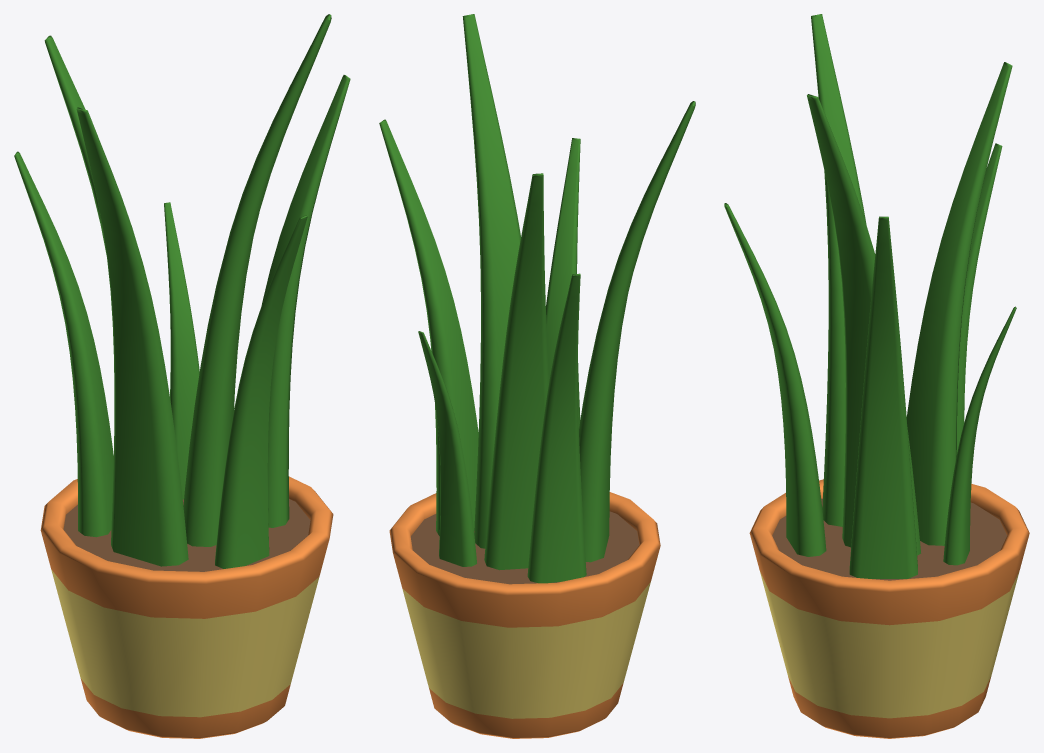
File: Plant_34.glb
3 views of the same model, side by side, from view 1: azimuth 30°, elevation 25°; view 2: azimuth 150°, elevation 25°; view 3: azimuth 270°, elevation 25° (orthographic). The views are drawn at different scales.
Visible parts, largest first — view 1: Plant_34; view 2: Plant_34; view 3: Plant_34.
Boxes of the visible parts, left/top/right/bottom form: Plant_34: left=14, top=14, right=350, bottom=738; Plant_34: left=379, top=14, right=695, bottom=738; Plant_34: left=724, top=14, right=1029, bottom=738.
Size of the model in its own units: 0.206 by 0.4438 by 0.1885.
Materials: 1 (1 with a texture image).
